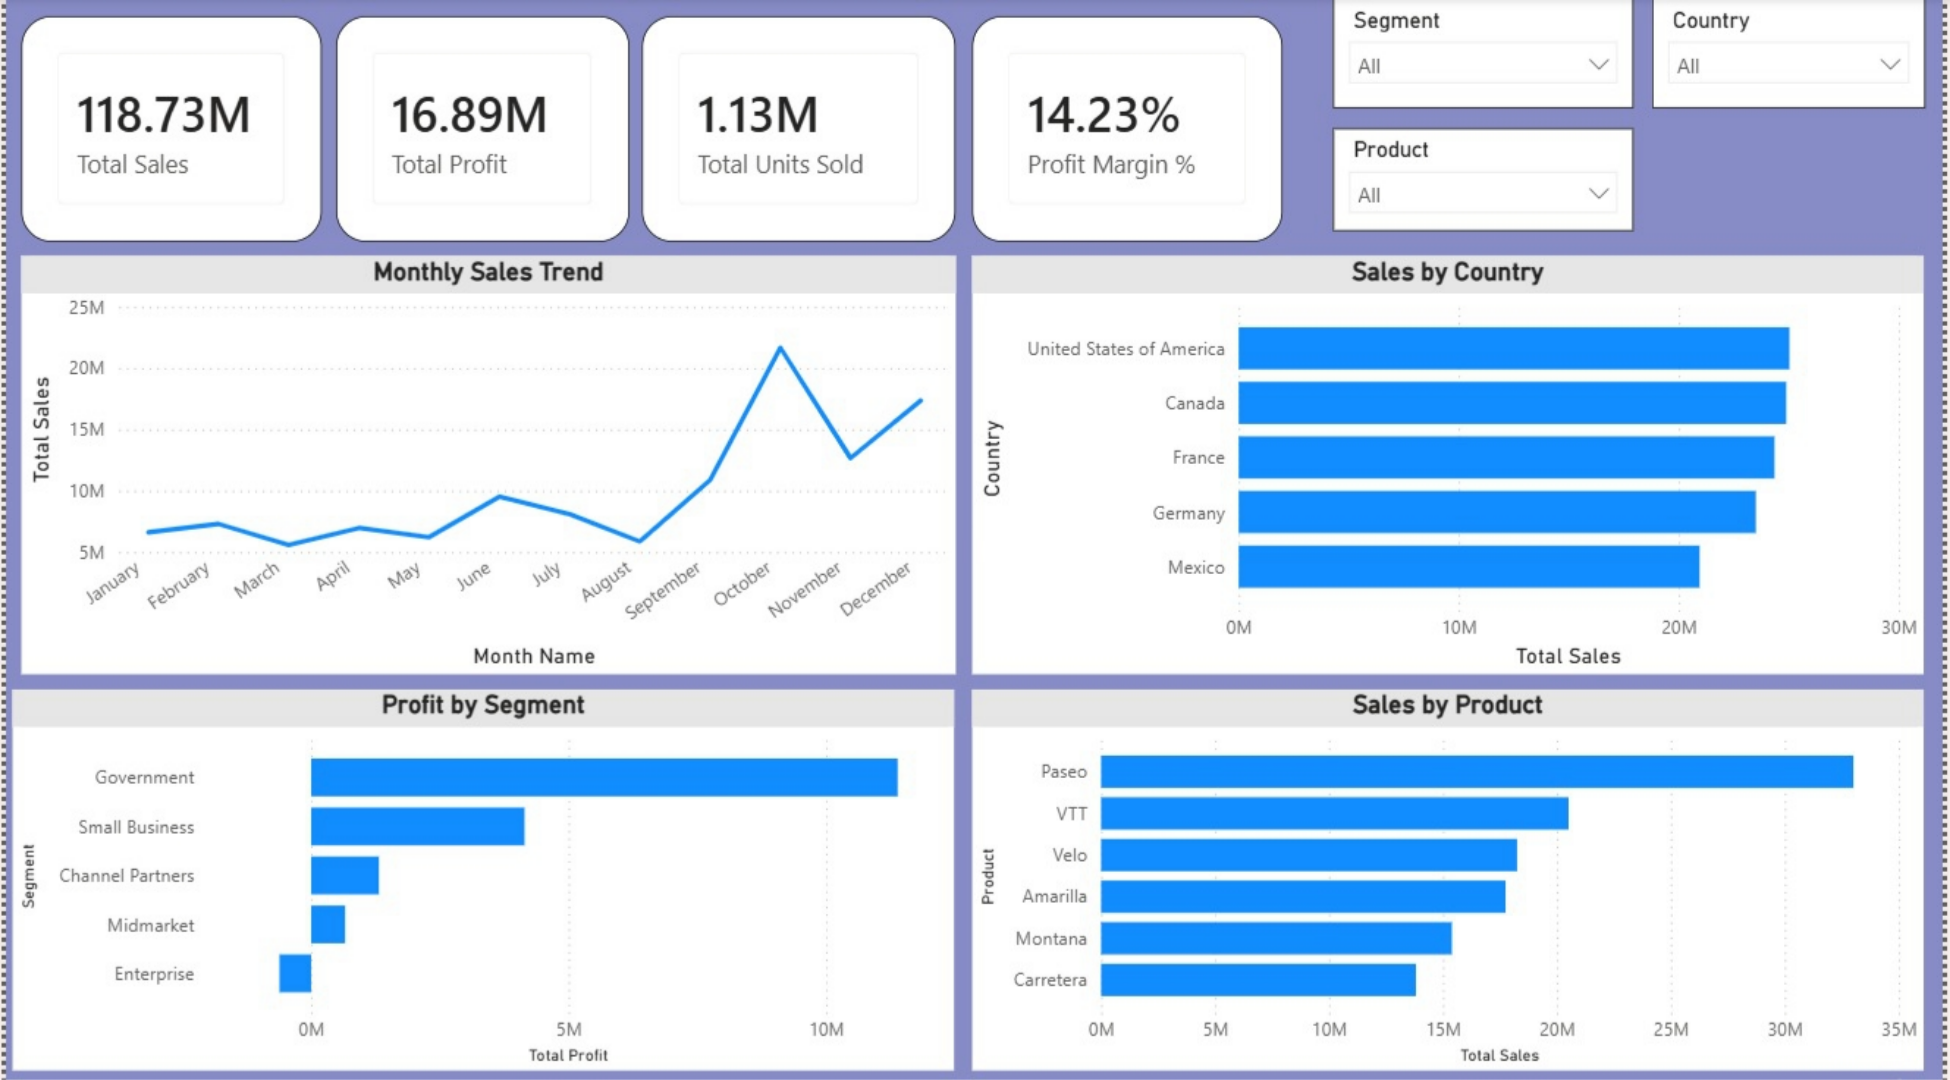

The page's visual inventory and layout, read from the dashboard file:
{"tool":"powerbi","page":{"name":"Page 1","canvas":[1280,720],"ordinal":0},"visuals":[{"type":"cardVisual","fields":{"Data":["financials.Total Sales"]},"box":[9.9,11.6,198.8,149.1],"z":0},{"type":"cardVisual","fields":{"Data":["financials.Total Profit"]},"box":[218.7,11.6,193.8,149.1],"z":1000},{"type":"cardVisual","fields":{"Data":["financials.Total Units Sold"]},"box":[420.7,11.6,207.1,149.1],"z":2000},{"type":"cardVisual","fields":{"Data":["financials.Profit Margin %"]},"box":[639.4,11.6,205.4,149.1],"z":3000},{"type":"lineChart","title":"Monthly Sales Trend","fields":{"Category":["financials.Month Name"],"Y":["financials.Total Sales"]},"box":[9.8,170.8,618.1,276.5],"z":4000},{"type":"clusteredBarChart","title":"Sales by Country","fields":{"Category":["financials.Country"],"Y":["financials.Total Sales"]},"box":[639.2,170.8,629.5,276.5],"z":5000},{"type":"clusteredBarChart","title":" Profit by Segment","fields":{"Category":["financials.Segment"],"Y":["financials.Total Profit"]},"box":[5,457.2,622.8,251.8],"z":6000},{"type":"clusteredBarChart","title":"Sales by Product","fields":{"Category":["financials.Product"],"Y":["financials.Total Sales"]},"box":[639.2,457.1,629.5,252.1],"z":6001},{"type":"slicer","fields":{"Values":["financials.Country"]},"box":[1088.3,0,180.6,72.9],"z":6002},{"type":"slicer","fields":{"Values":["financials.Segment"]},"box":[877.9,0,198.8,72.9],"z":6003},{"type":"slicer","fields":{"Values":["financials.Product"]},"box":[877.9,86.1,198.8,67.9],"z":6004}]}

Visuals, with their boxes in screenshot pixels (x1, y1, x2, y2), scaled from the page's 1280x720 canvas onto the 1950x1080 screenshot:
cardVisual - financials.Total Sales: bbox=[15, 17, 318, 241]
cardVisual - financials.Total Profit: bbox=[333, 17, 628, 241]
cardVisual - financials.Total Units Sold: bbox=[641, 17, 956, 241]
cardVisual - financials.Profit Margin %: bbox=[974, 17, 1287, 241]
"Monthly Sales Trend" lineChart: bbox=[15, 256, 957, 671]
"Sales by Country" clusteredBarChart: bbox=[974, 256, 1933, 671]
" Profit by Segment" clusteredBarChart: bbox=[8, 686, 956, 1064]
"Sales by Product" clusteredBarChart: bbox=[974, 686, 1933, 1064]
slicer - financials.Country: bbox=[1658, 0, 1933, 109]
slicer - financials.Segment: bbox=[1337, 0, 1640, 109]
slicer - financials.Product: bbox=[1337, 129, 1640, 231]
